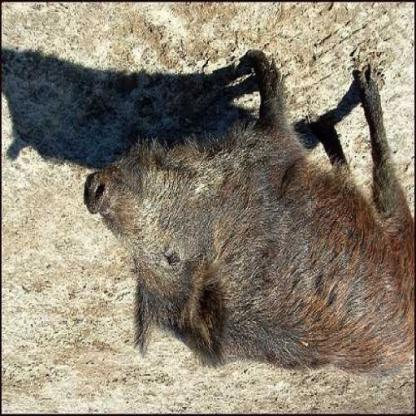boar: (85, 72, 415, 415)
